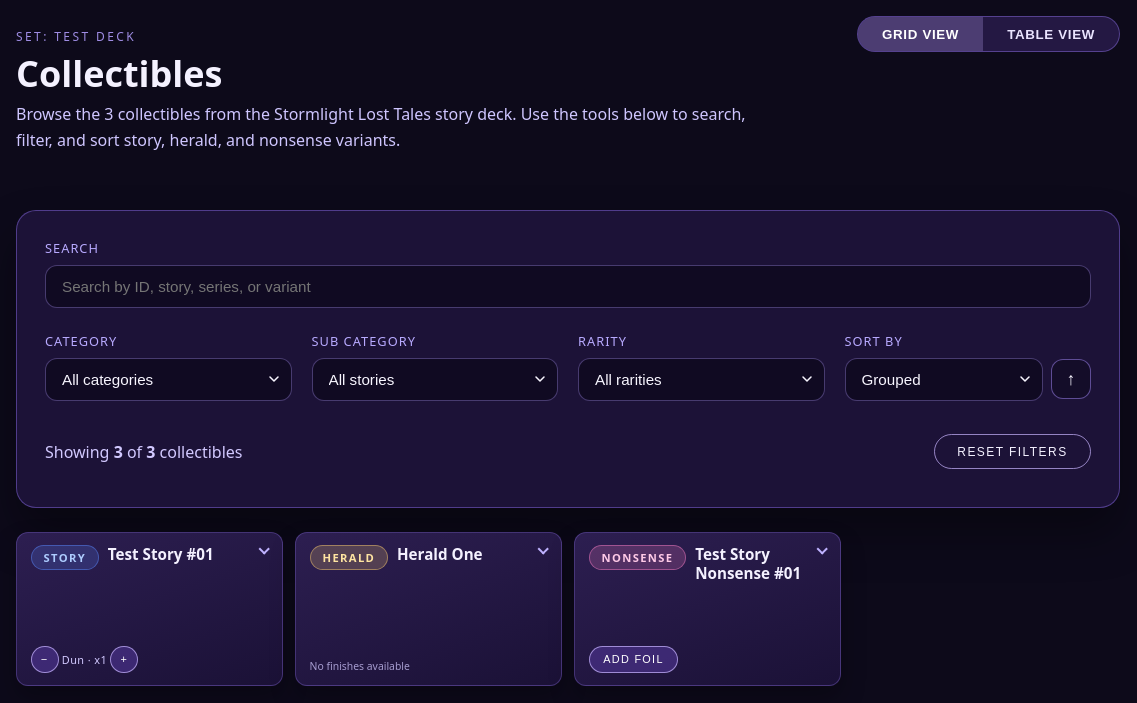
Test: CollectiblesPage (integration) › soft-zeros stay visible after decrement and hard-delete is deferred
Click the button named "Decrease Dun · x1": x=45, y=659 [31,646,59,673]
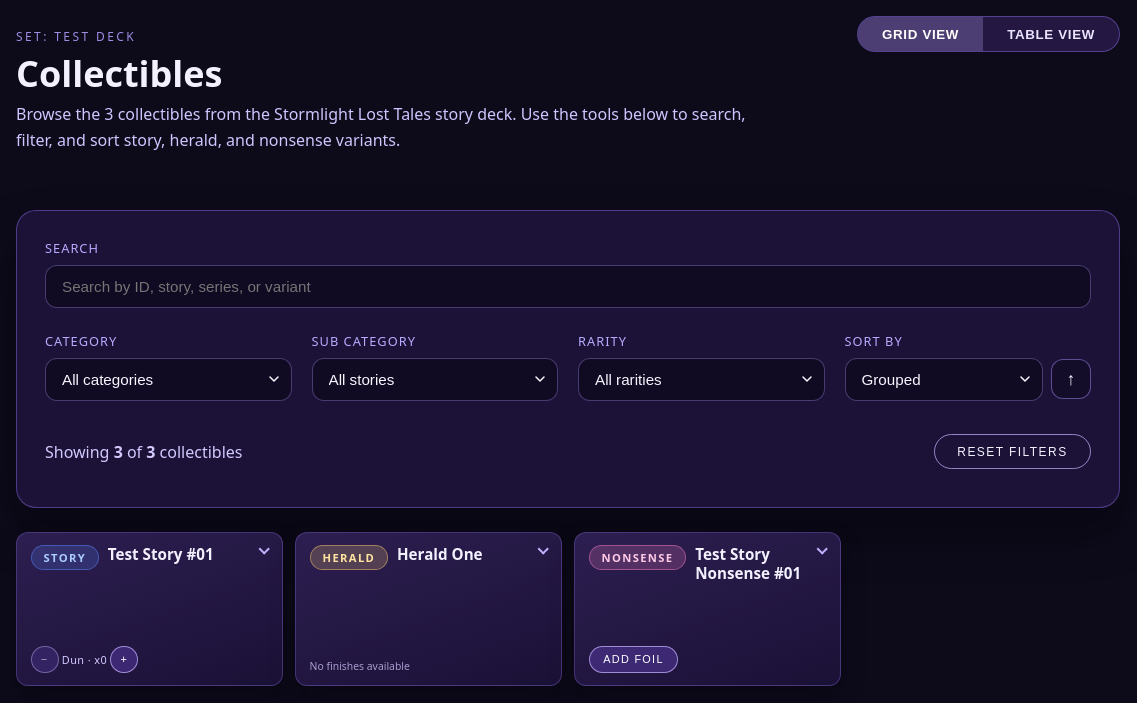
expect the text "Dun · x0" is shown: met, box [62,652,107,667]
